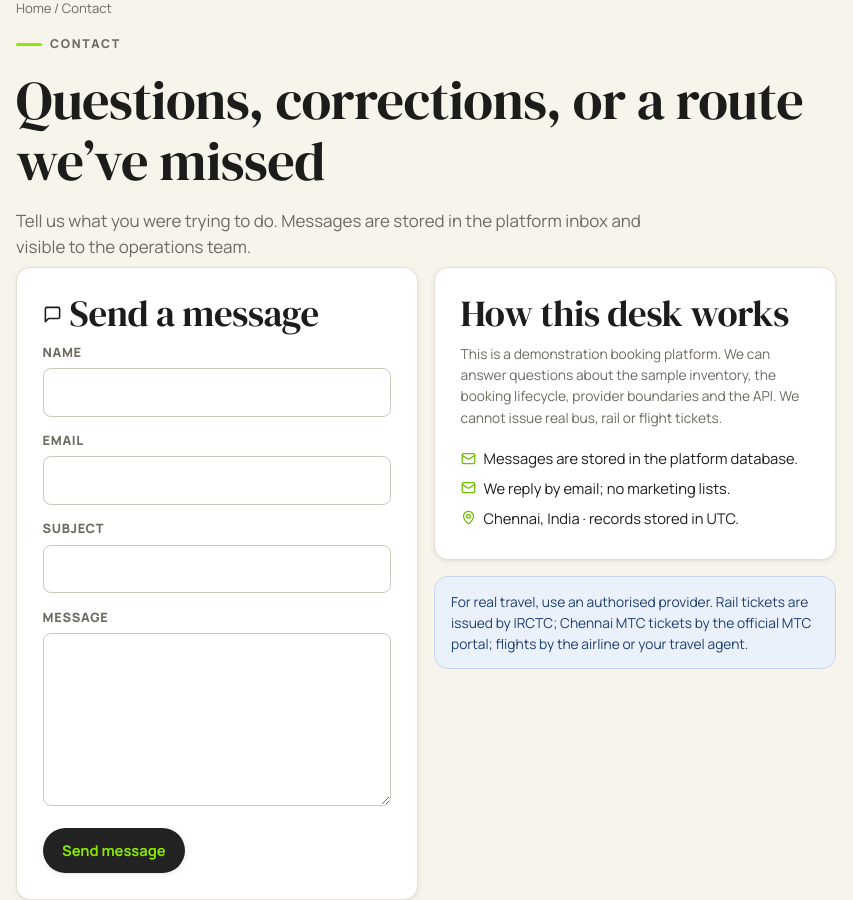
Test: contact form › shows validation messages instead of submitting an empty form
(page scrolled)
Click the button "Send message" at (114, 851), box [43, 828, 185, 873]
(page scrolled)
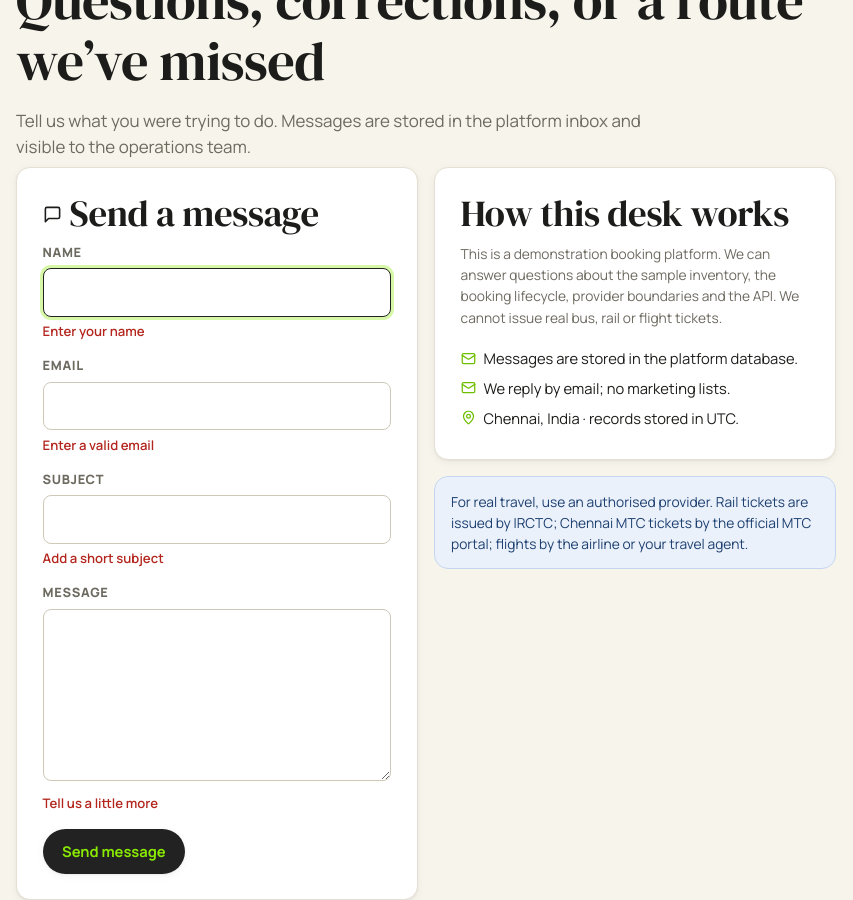
Now the text "Enter your name" is shown, box [43, 322, 144, 340]
Now the text "Enter a valid email" is shown, box [43, 436, 154, 454]
Now the text "Add a short subject" is shown, box [43, 549, 164, 567]
